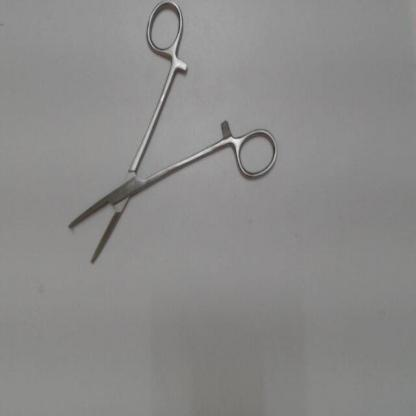Mayo Needle Holder: (59, 1, 288, 275)
